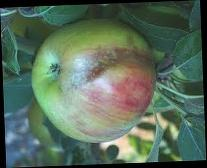rotten apple: (30, 19, 163, 143)
